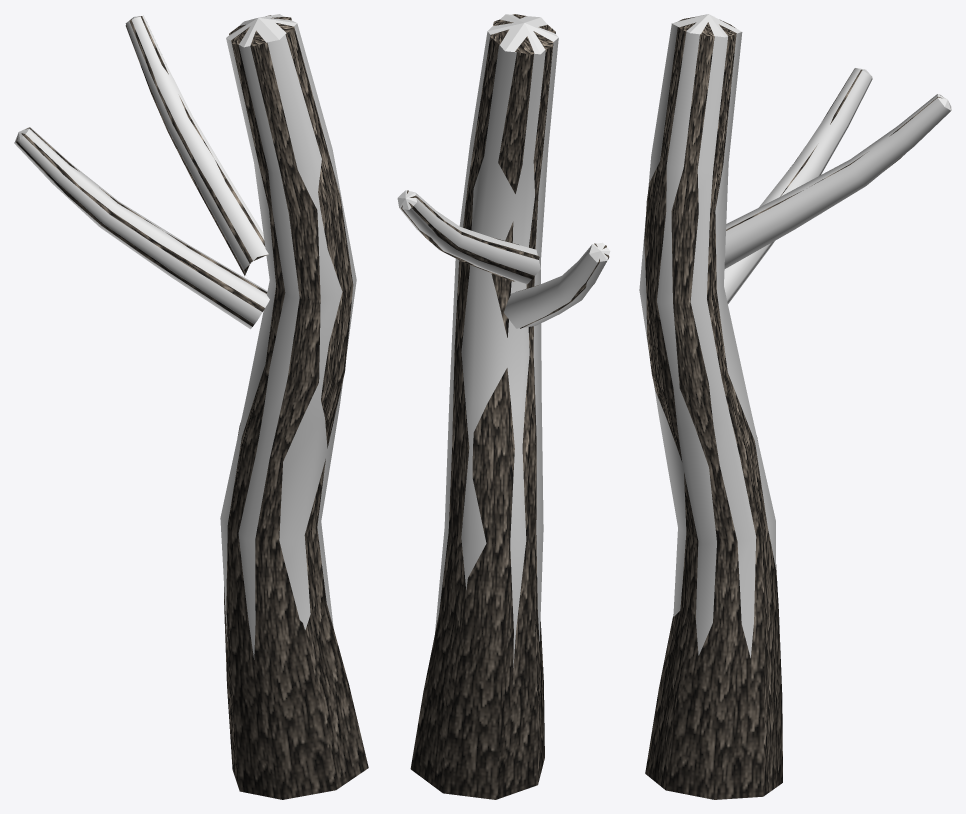
The model's file is Arvore-Morta-02-Toco.glb.
The picture shows the model from 3 angles, left to right: view 1: azimuth 30°, elevation 25°; view 2: azimuth 150°, elevation 25°; view 3: azimuth 270°, elevation 25°; orthographic projection. The views are drawn at different scales.
Visible parts, largest first — view 1: Arvore-Morta-02-Toco, Arvore-Morta-02-Toco_COL; view 2: Arvore-Morta-02-Toco, Arvore-Morta-02-Toco_COL; view 3: Arvore-Morta-02-Toco, Arvore-Morta-02-Toco_COL.
Part boxes in pixels (<box>): Arvore-Morta-02-Toco: <box>16,15,368,799</box>; Arvore-Morta-02-Toco_COL: <box>14,14,356,659</box>; Arvore-Morta-02-Toco: <box>401,14,609,799</box>; Arvore-Morta-02-Toco_COL: <box>397,14,610,667</box>; Arvore-Morta-02-Toco: <box>644,17,951,799</box>; Arvore-Morta-02-Toco_COL: <box>639,14,951,657</box>.
Size of what is drawn, in the model's own units: 1.21 by 3.29 by 1.24.
1 material, 1 textured.
